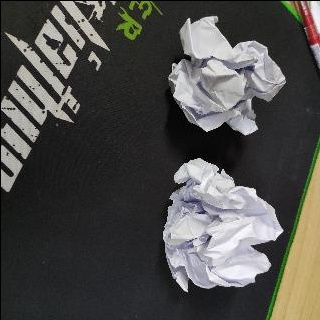8/可回收垃圾/纸: (161, 157, 284, 293), (167, 14, 285, 136)
